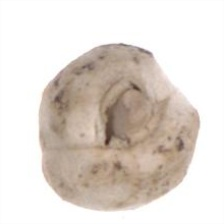L3: (92, 73, 169, 151)
L4: (38, 43, 199, 212)
